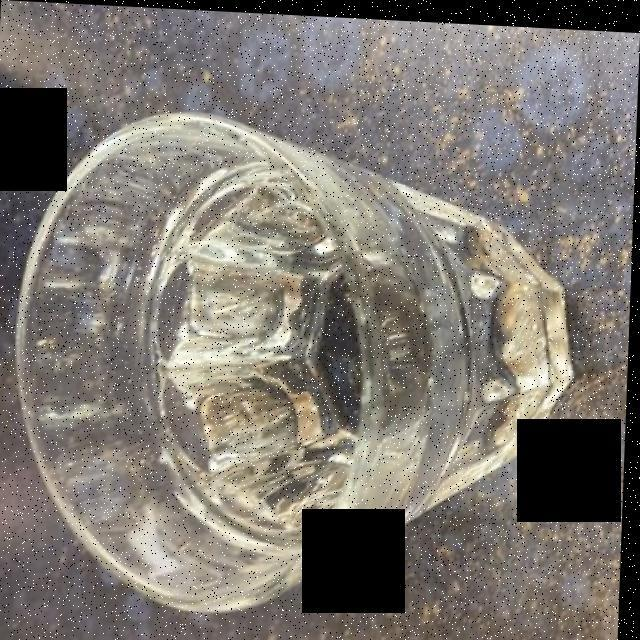water: (140, 159, 369, 541)
